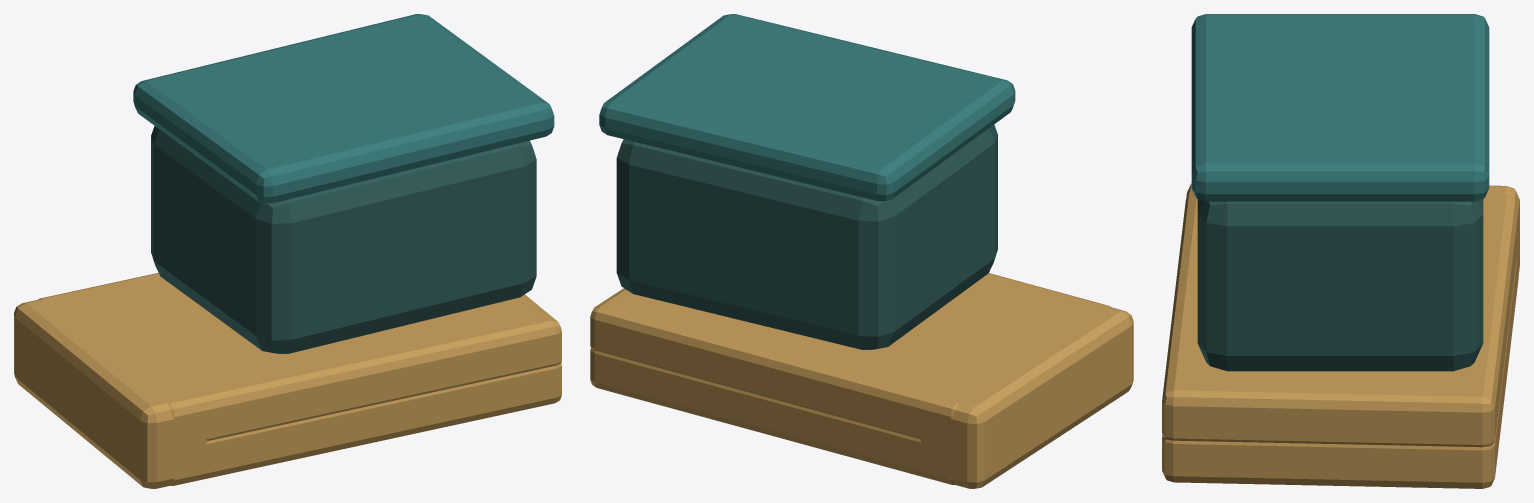
3 renders of one model, left to right at view 1: azimuth 30°, elevation 25°; view 2: azimuth 150°, elevation 25°; view 3: azimuth 270°, elevation 25°, orthographic. The views are drawn at different scales.
Parts seen in each view (by area): view 1: loft_ochre, loft_teal_dark, loft_teal; view 2: loft_ochre, loft_teal_dark, loft_teal; view 3: loft_teal, loft_ochre, loft_teal_dark.
Boxes of the visible parts, x1=… form: loft_ochre: x1=14, y1=273, x2=561, y2=488; loft_teal_dark: x1=151, y1=126, x2=536, y2=353; loft_teal: x1=133, y1=14, x2=554, y2=203; loft_ochre: x1=590, y1=273, x2=1133, y2=488; loft_teal_dark: x1=616, y1=124, x2=997, y2=349; loft_teal: x1=599, y1=14, x2=1015, y2=201; loft_teal: x1=1191, y1=14, x2=1489, y2=201; loft_ochre: x1=1162, y1=183, x2=1519, y2=488; loft_teal_dark: x1=1197, y1=199, x2=1483, y2=371.
Size of the model in its own units: 0.453 by 0.2975 by 0.3006.
